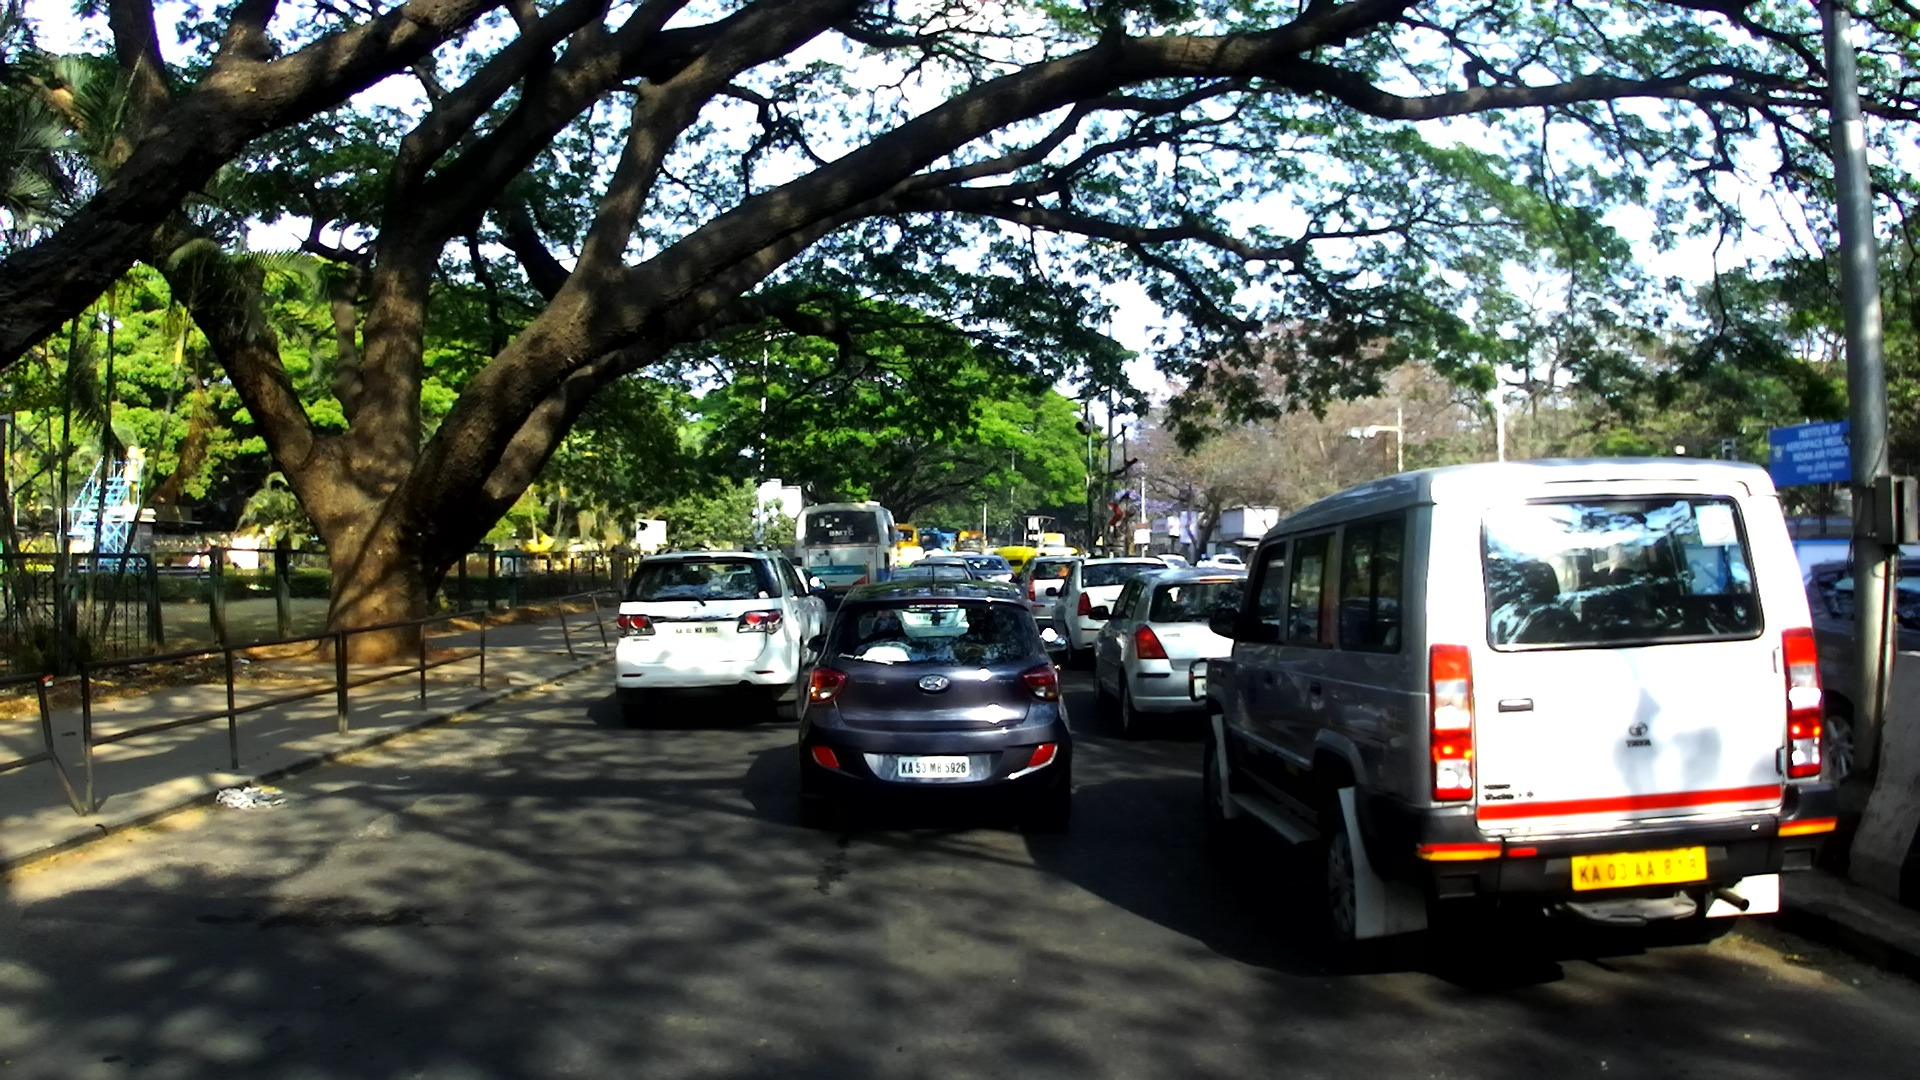autorickshaw: (992, 546, 1036, 577), (899, 545, 925, 573), (1033, 546, 1078, 557)
bus: (792, 499, 899, 609), (892, 522, 921, 551), (955, 530, 986, 552), (918, 527, 941, 554)
car: (1184, 455, 1834, 961), (795, 576, 1075, 809), (613, 549, 828, 721), (1087, 566, 1250, 740), (1044, 555, 1171, 668), (1801, 552, 1919, 649), (1013, 554, 1084, 628), (960, 553, 1020, 587), (909, 556, 984, 583), (885, 565, 978, 585), (792, 565, 820, 598), (1207, 552, 1249, 571), (1154, 554, 1191, 572), (919, 550, 981, 560)
person: (1108, 547, 1115, 559), (776, 544, 783, 554)
rider: (1194, 552, 1213, 570)
traffic light: (1074, 418, 1089, 436)
truck: (1036, 532, 1068, 550)
vehicle fallback: (1824, 685, 1859, 784), (937, 527, 958, 558), (956, 536, 984, 554)
